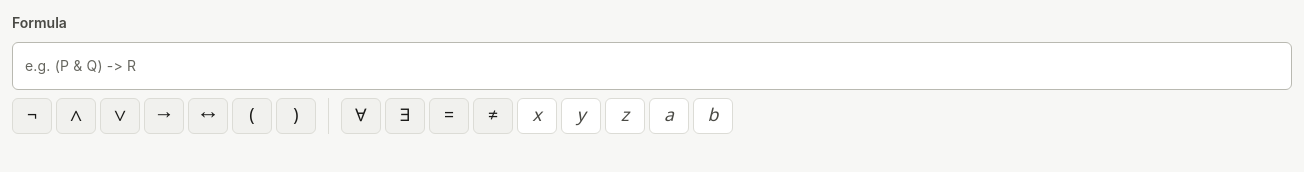
Test case: converts ASCII connectives to symbols while typing
Type "(P & Q) -> ~R" into the field labelled "Formula". click: (652, 66)
box: [13,43,1291,89]
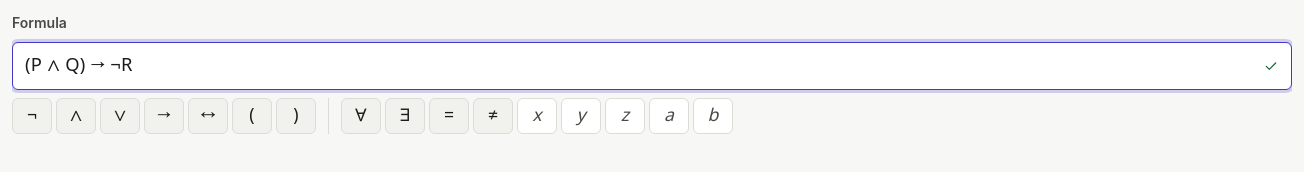
Check: the field labelled "Formula" holds "(P ∧ Q) → ¬R", box [13,43,1263,89]
